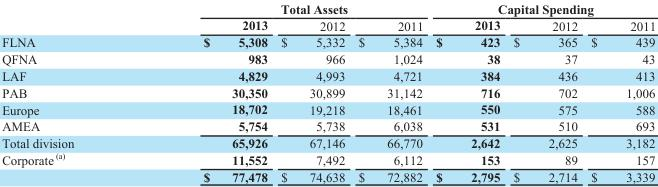table: (1, 1, 655, 183)
table column: (1, 1, 138, 183), (138, 1, 273, 183), (273, 1, 351, 183), (428, 1, 506, 183), (351, 1, 428, 183), (506, 1, 583, 183), (583, 1, 655, 183)
table column header: (1, 1, 655, 33)
table row: (1, 16, 655, 33), (1, 33, 655, 50), (1, 50, 655, 67), (1, 83, 655, 100), (1, 100, 655, 117), (1, 117, 655, 134), (1, 150, 655, 167), (1, 67, 655, 83), (1, 134, 655, 150), (1, 167, 655, 183), (1, 1, 655, 16)
table spanning cell: (138, 1, 428, 16), (428, 1, 655, 16)
